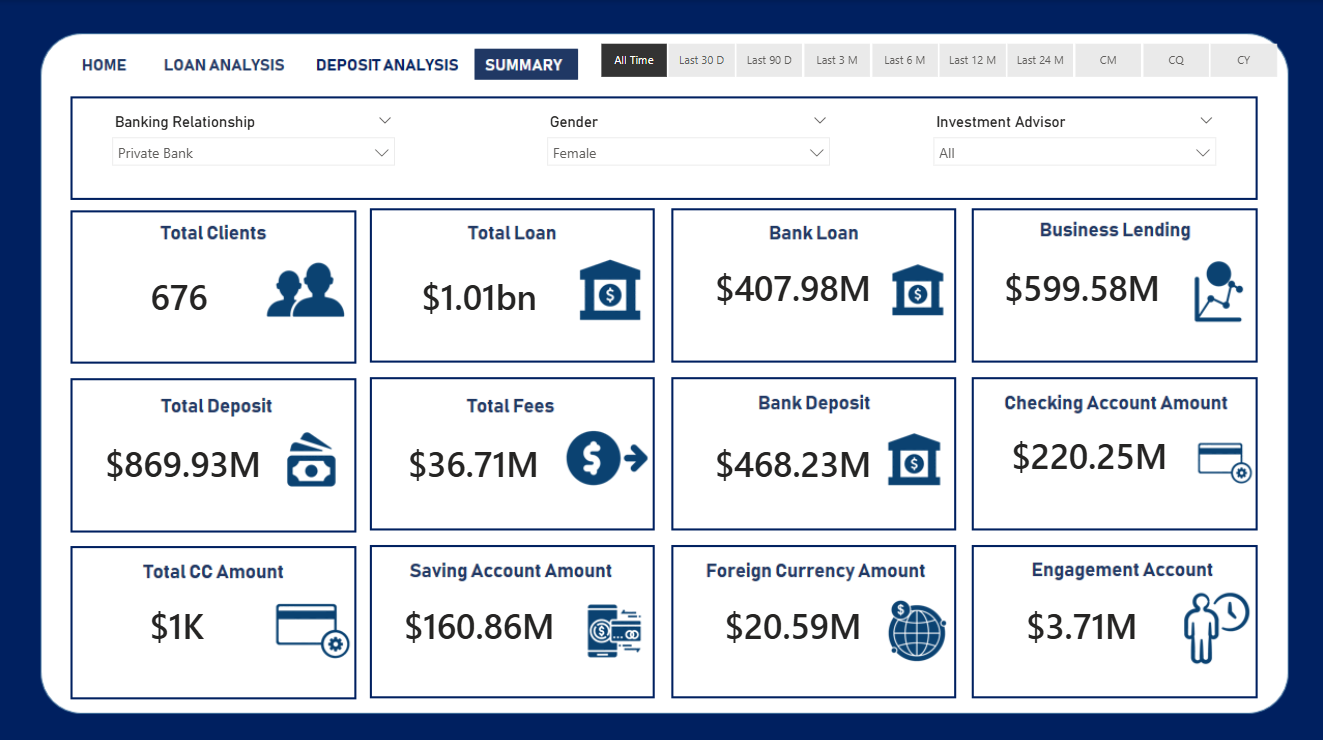

This screenshot's page, from the dashboard's own definition file:
{"tool":"powerbi","page":{"name":"Summary","canvas":[1280,720],"ordinal":3},"visuals":[{"type":"card","fields":{"Values":["DAX Measures.Engagment Length"]},"box":[946.3,546.4,198.2,114.9],"z":0},{"type":"card","fields":{"Values":["DAX Measures.Foreign Currency Account"]},"box":[667.2,546.4,198.2,114.9],"z":1000},{"type":"card","fields":{"Values":["DAX Measures.Bank Deposit"]},"box":[667.2,390.5,198.2,114.9],"z":2000},{"type":"card","fields":{"Values":["DAX Measures.Checking Accounts"]},"box":[953.4,382.3,198.2,114.9],"z":3000},{"type":"card","fields":{"Values":["DAX Measures.Bank Loan"]},"box":[667.2,220.5,198.2,114.9],"z":4000},{"type":"card","fields":{"Values":["DAX Measures.Business Lending"]},"box":[953.4,220.5,184.1,114.9],"z":5000},{"type":"card","fields":{"Values":["DAX Measures.Savings Account"]},"box":[360,546.4,207.6,114.9],"z":6000},{"type":"card","fields":{"Values":["DAX Measures.Total CC Amount"]},"box":[72.7,546.4,198.2,114.9],"z":7000},{"type":"card","fields":{"Values":["DAX Measures.Total Deposit"]},"box":[78.6,390.5,198.2,114.9],"z":8000},{"type":"card","fields":{"Values":["DAX Measures.Total Fees"]},"box":[365.9,390.5,184.1,114.9],"z":9000},{"type":"card","fields":{"Values":["DAX Measures.Total Clients"]},"box":[75,228.7,198.2,114.9],"z":10000},{"type":"card","fields":{"Values":["DAX Measures.Total Loan"]},"box":[365.9,228.7,195.8,114.9],"z":11000},{"type":"slicer","fields":{"Values":["Banking Relationship.Banking Relationship"]},"box":[98.5,104.3,292.9,75.7],"z":12000},{"type":"slicer","fields":{"Values":["Gender.Gender"]},"box":[518.9,104.3,292.9,75.7],"z":13000},{"type":"slicer","fields":{"Values":["Investment Advisor.Investment Advisor"]},"box":[891.3,104.3,292.9,75.7],"z":14000},{"type":"slicer","fields":{"Values":["Period.Name"]},"box":[555.2,34.6,702.1,46.6],"z":15000},{"type":"actionButton","box":[72.8,44.2,58.5,31],"z":16000},{"type":"actionButton","box":[306.9,44.7,119.4,31],"z":17000},{"type":"actionButton","box":[297.9,44.6,147.8,30.5],"z":18000},{"type":"actionButton","box":[157.1,44.6,125.5,30.5],"z":19000}]}

Visuals, with their boxes in screenshot pixels (x1, y1, x2, y2), scaled from the page's 1280x720 canvas onto the 1323x740 screenshot:
card - DAX Measures.Engagment Length: select_region(978, 562, 1183, 680)
card - DAX Measures.Foreign Currency Account: select_region(690, 562, 894, 680)
card - DAX Measures.Bank Deposit: select_region(690, 401, 894, 519)
card - DAX Measures.Checking Accounts: select_region(985, 393, 1190, 511)
card - DAX Measures.Bank Loan: select_region(690, 227, 894, 345)
card - DAX Measures.Business Lending: select_region(985, 227, 1176, 345)
card - DAX Measures.Savings Account: select_region(372, 562, 587, 680)
card - DAX Measures.Total CC Amount: select_region(75, 562, 280, 680)
card - DAX Measures.Total Deposit: select_region(81, 401, 286, 519)
card - DAX Measures.Total Fees: select_region(378, 401, 568, 519)
card - DAX Measures.Total Clients: select_region(78, 235, 282, 353)
card - DAX Measures.Total Loan: select_region(378, 235, 581, 353)
slicer - Banking Relationship.Banking Relationship: select_region(102, 107, 405, 185)
slicer - Gender.Gender: select_region(536, 107, 839, 185)
slicer - Investment Advisor.Investment Advisor: select_region(921, 107, 1224, 185)
slicer - Period.Name: select_region(574, 36, 1300, 83)
actionButton: select_region(75, 45, 136, 77)
actionButton: select_region(317, 46, 441, 78)
actionButton: select_region(308, 46, 461, 77)
actionButton: select_region(162, 46, 292, 77)
